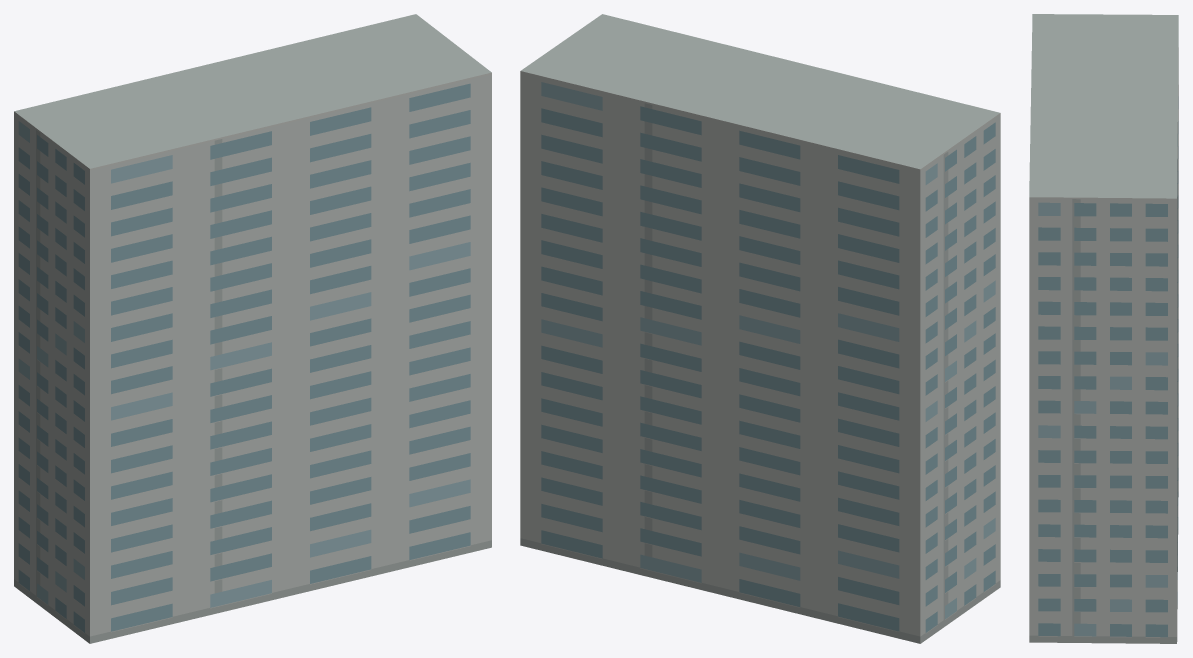
File: residential-9b4d0f68-6402-416e-ba84-8cc9113850fa.glb
3 views of the same model, side by side, from view 1: azimuth 30°, elevation 25°; view 2: azimuth 150°, elevation 25°; view 3: azimuth 270°, elevation 25° (orthographic). The views are drawn at different scales.
Parts seen in each view (by area): view 1: residential-9b4d0f68-6402-416e-ba84-8cc9113850fa.tmp; view 2: residential-9b4d0f68-6402-416e-ba84-8cc9113850fa.tmp; view 3: residential-9b4d0f68-6402-416e-ba84-8cc9113850fa.tmp.
Part boxes in pixels (box(x1,y1,x2,y2)): residential-9b4d0f68-6402-416e-ba84-8cc9113850fa.tmp: box(14, 14, 491, 643); residential-9b4d0f68-6402-416e-ba84-8cc9113850fa.tmp: box(520, 14, 1000, 643); residential-9b4d0f68-6402-416e-ba84-8cc9113850fa.tmp: box(1029, 14, 1178, 643).
Size of the model in its own units: 62.23 by 70 by 21.32.
